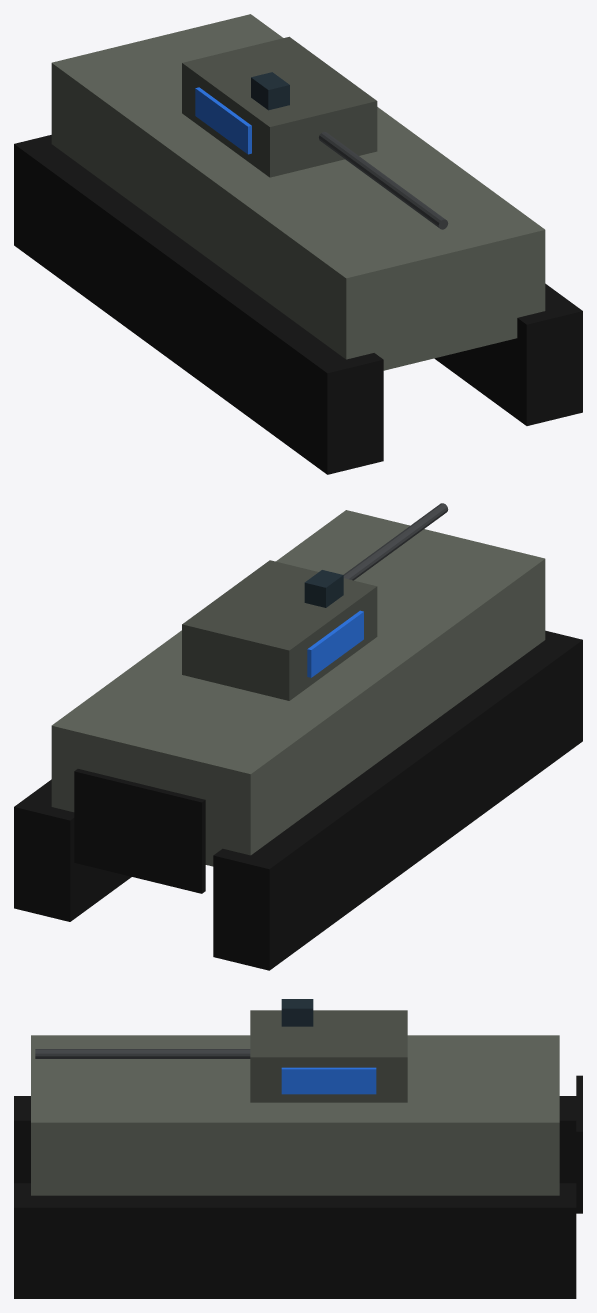
File: eu_ifv.glb
The picture shows the model from 3 angles, top to bottom: view 1: azimuth 30°, elevation 25°; view 2: azimuth 150°, elevation 25°; view 3: azimuth 270°, elevation 25°; orthographic projection. The views are drawn at different scales.
Visible parts, largest first — view 1: hull, track_l, turret, track_r, team_panel_l, barrel, sight; view 2: hull, track_l, turret, rear_door, track_r, team_panel_l, barrel, sight; view 3: hull, track_r, turret, track_l, team_panel_r, barrel, rear_door, sight.
Boxes of the visible parts, x1,y1,x2,y2 form: hull: [51, 14, 545, 370]; track_l: [14, 135, 383, 474]; turret: [182, 36, 377, 177]; track_r: [434, 283, 582, 425]; team_panel_l: [195, 87, 251, 154]; barrel: [319, 132, 448, 229]; sight: [251, 72, 289, 110]; hull: [51, 510, 545, 866]; track_l: [213, 630, 582, 970]; turret: [182, 560, 377, 700]; rear_door: [74, 769, 205, 893]; track_r: [14, 779, 131, 921]; team_panel_l: [307, 610, 363, 677]; barrel: [343, 503, 448, 580]; sight: [304, 570, 343, 607]; hull: [31, 1035, 559, 1195]; track_r: [14, 1183, 576, 1298]; turret: [250, 1010, 407, 1102]; track_l: [14, 1096, 576, 1183]; team_panel_r: [281, 1067, 376, 1094]; barrel: [35, 1049, 250, 1058]; rear_door: [576, 1075, 582, 1213]; sight: [281, 999, 313, 1026].
Bounding box in the file's own units: 3.2 × 3.03 × 6.88.
